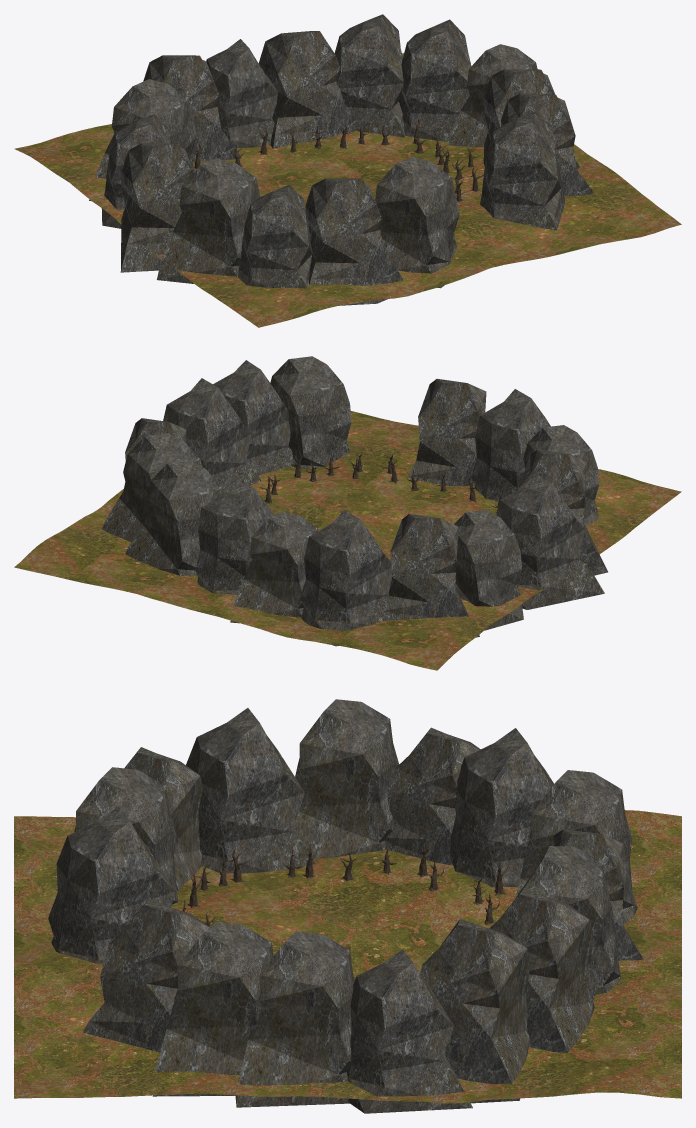
Rendered from terrain.obj.
3 views of the same model, one above another, from view 1: azimuth 30°, elevation 25°; view 2: azimuth 150°, elevation 25°; view 3: azimuth 270°, elevation 25° (orthographic). The views are drawn at different scales.
Visible parts, largest first — view 1: Plane, Mountain.002, Mountain.010, Mountain.001, Mountain, Mountain.005, Mountain.012, Mountain.015, Mountain.007, Mountain.006, Mountain.013, Mountain.011 (+5 smaller); view 2: Plane, Mountain.011, Mountain.012, Mountain.003, Mountain.007, Mountain.005, Mountain.001, Mountain.008, Mountain, Mountain.013, Mountain.009, Mountain.010 (+5 smaller); view 3: Plane, Mountain.009, Mountain.002, Mountain.004, Mountain.012, Mountain.015, Mountain.014, Mountain.001, Mountain.003, Mountain.007, Mountain.005, Mountain.008 (+5 smaller).
Boxes of the visible parts, x1,y1,x2,y2 form: Plane: (14, 53, 681, 327); Mountain.002: (156, 158, 260, 283); Mountain.010: (305, 178, 402, 305); Mountain.001: (375, 157, 459, 288); Mountain: (258, 31, 356, 148); Mountain.005: (480, 111, 564, 230); Mountain.012: (120, 143, 193, 272); Mountain.015: (399, 19, 471, 141); Mountain.007: (334, 14, 405, 137); Mountain.006: (238, 184, 312, 288); Mountain.013: (206, 39, 277, 147); Mountain.011: (143, 55, 240, 162); Plane: (14, 411, 681, 670); Mountain.011: (300, 510, 391, 646); Mountain.012: (496, 473, 604, 609); Mountain.003: (383, 514, 479, 637); Mountain.007: (125, 460, 223, 575); Mountain.005: (270, 356, 351, 469); Mountain.001: (407, 378, 486, 486); Mountain.008: (454, 510, 523, 630); Mountain: (195, 478, 274, 594); Mountain.013: (230, 511, 318, 623); Mountain.009: (163, 378, 261, 492); Mountain.010: (471, 389, 550, 502); Plane: (14, 810, 681, 1103); Mountain.009: (235, 931, 354, 1107); Mountain.002: (186, 708, 315, 873); Mountain.004: (347, 949, 472, 1113); Mountain.012: (293, 699, 399, 858); Mountain.015: (420, 918, 530, 1103); Mountain.014: (152, 921, 273, 1096); Mountain.001: (48, 806, 175, 963); Mountain.003: (449, 728, 553, 886); Mountain.007: (489, 888, 596, 1052); Mountain.005: (83, 899, 209, 1052); Mountain.008: (384, 727, 480, 865).
Size of the model in its own units: 108 by 25.23 by 101.
3 materials, 3 textured.
